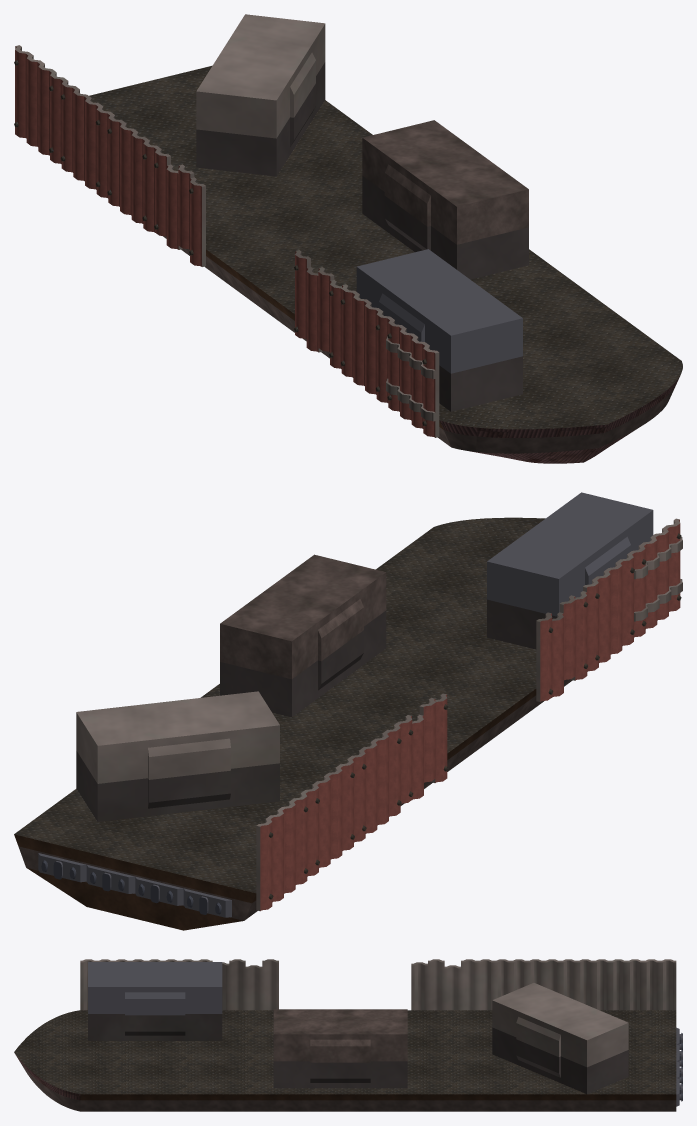
The model's file is Neriglissar_WW_sección_babor.glb.
The picture shows the model from 3 angles, top to bottom: view 1: azimuth 30°, elevation 25°; view 2: azimuth 150°, elevation 25°; view 3: azimuth 270°, elevation 25°; orthographic projection. The views are drawn at different scales.
Visible parts, largest first — view 1: mergedBlocks(Clone); view 2: mergedBlocks(Clone); view 3: mergedBlocks(Clone).
Part boxes in pixels (box(x1,y1,x2,y2)): mergedBlocks(Clone): box(14, 14, 682, 463); mergedBlocks(Clone): box(14, 492, 682, 930); mergedBlocks(Clone): box(14, 959, 682, 1111).
Size of the model in its own units: 6.27 by 3.1 by 20.2.
9 materials, 7 textured.
